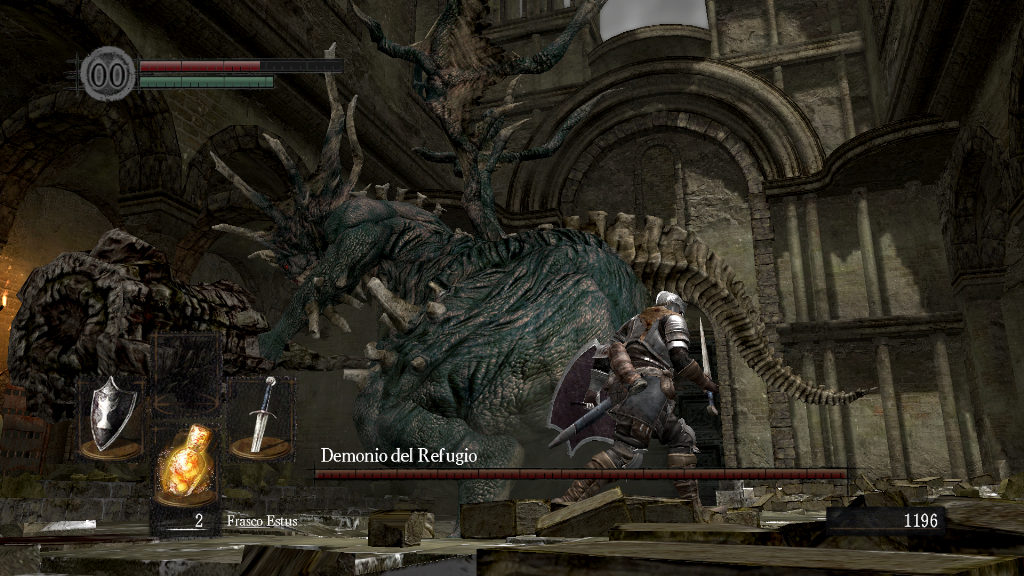asylumDemon: (9, 51, 884, 540)
bossHP: (314, 469, 847, 479)
health: (138, 58, 343, 71)
humanity: (80, 45, 136, 102)
player: (547, 292, 720, 503)
souls: (825, 506, 945, 536)
stamina: (138, 74, 274, 88)
